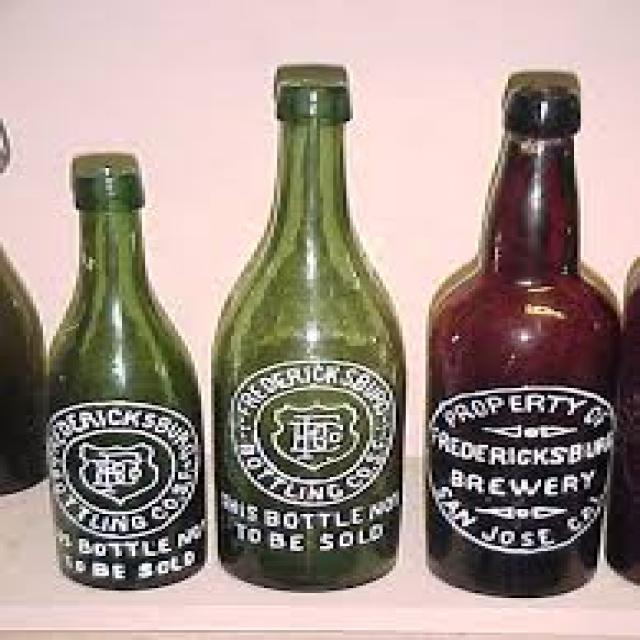Anorganik: (426, 72, 614, 600), (208, 74, 396, 591), (39, 153, 204, 588), (0, 247, 56, 494), (597, 257, 637, 581)
